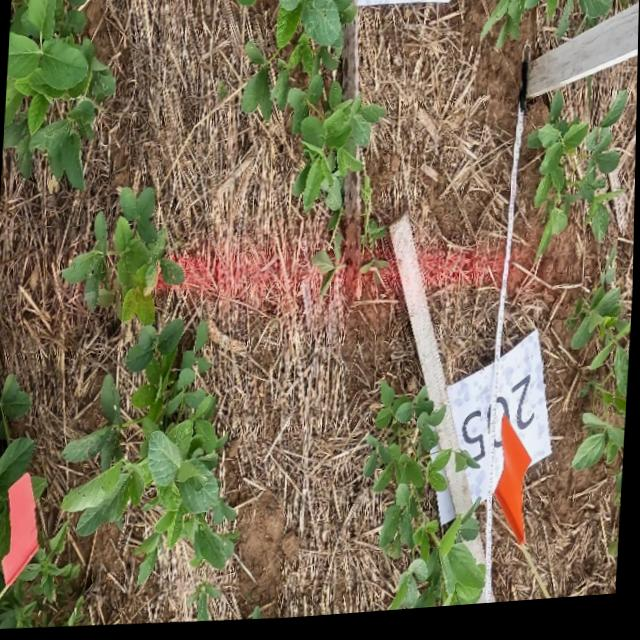soy_plant: (64, 190, 238, 583), (242, 0, 384, 285), (368, 390, 487, 616), (0, 377, 84, 628), (3, 0, 115, 186), (531, 102, 625, 255), (574, 295, 632, 476), (488, 0, 612, 46), (365, 221, 385, 249), (458, 460, 469, 476), (619, 479, 623, 504)
